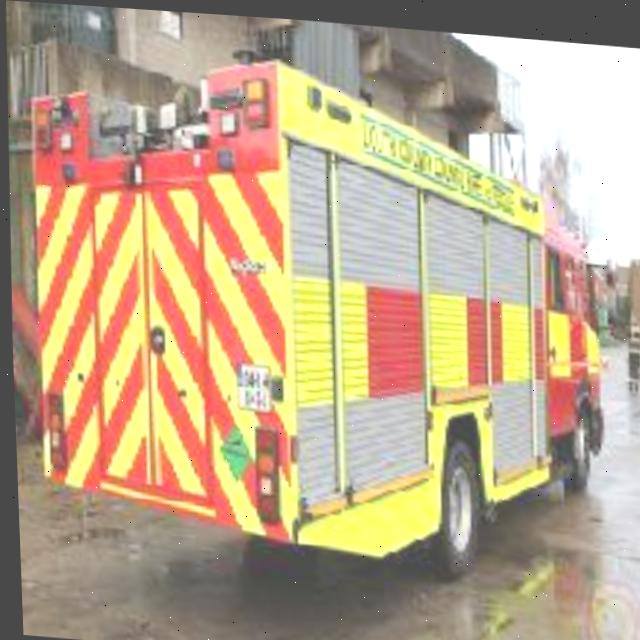emergency: (1, 20, 613, 583)
